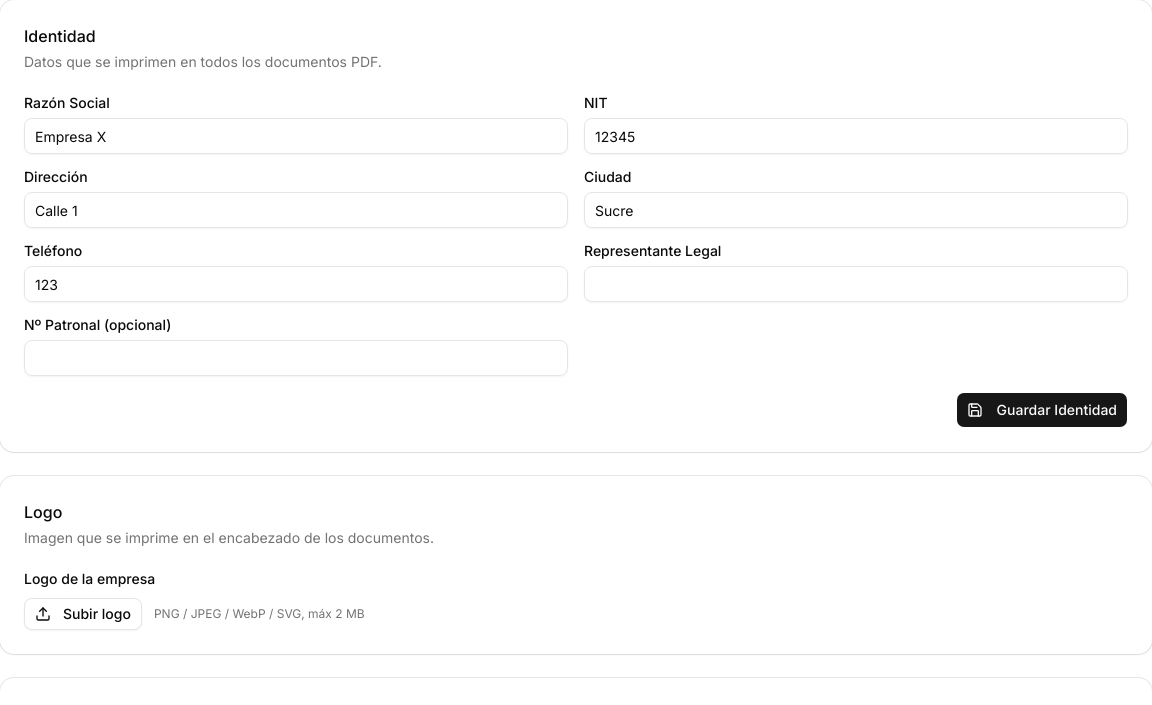
it: CompanyProfileForm — Identity save › renders field error for representanteLegal when returned in fieldErrors
Step 1. Click the button with test id "identity-save" → (1042, 410), box [956, 392, 1128, 428]
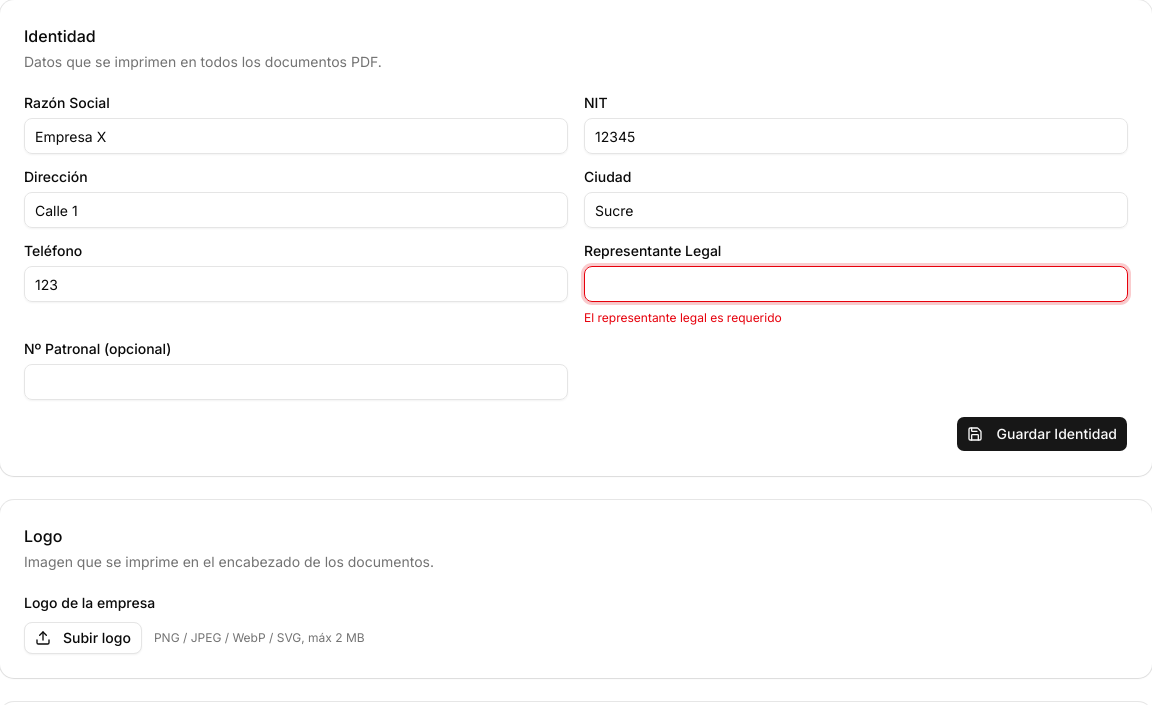
Now the text with test id "identity-representanteLegal-error" reads "El representante legal es requerido", box [584, 310, 782, 325]
